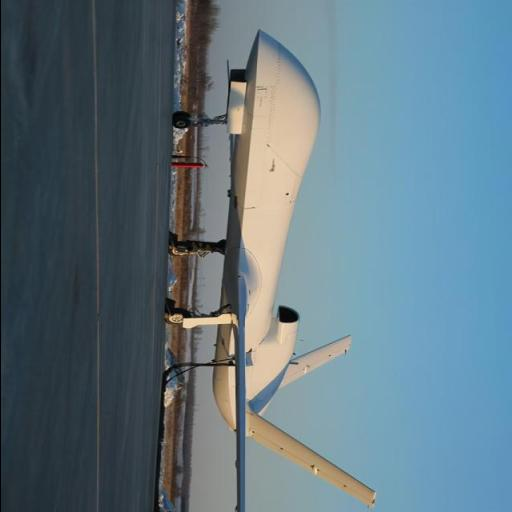uav: (180, 25, 374, 512)
